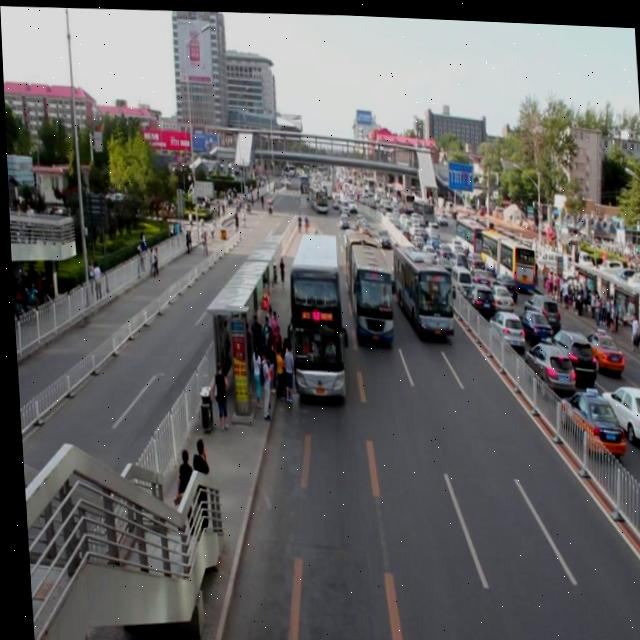car: (374, 221, 388, 247), (351, 210, 367, 231), (335, 208, 346, 229)
van: (284, 230, 342, 394), (389, 238, 449, 334), (341, 223, 388, 340)
